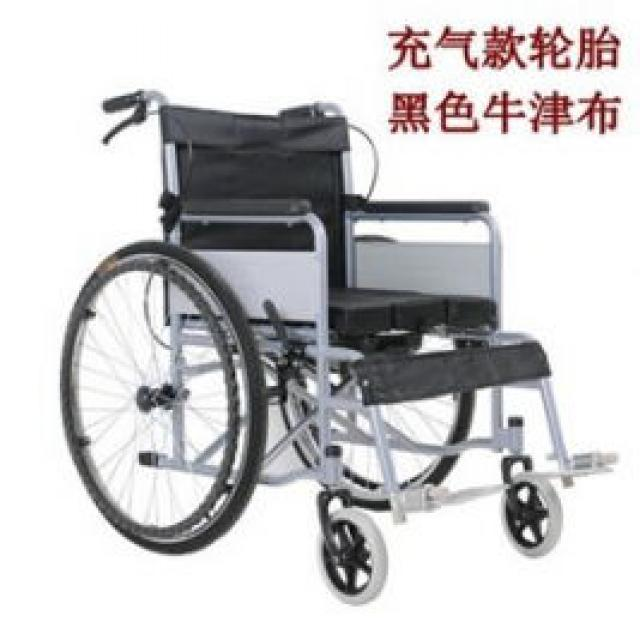wheelchair: (55, 83, 621, 594)
